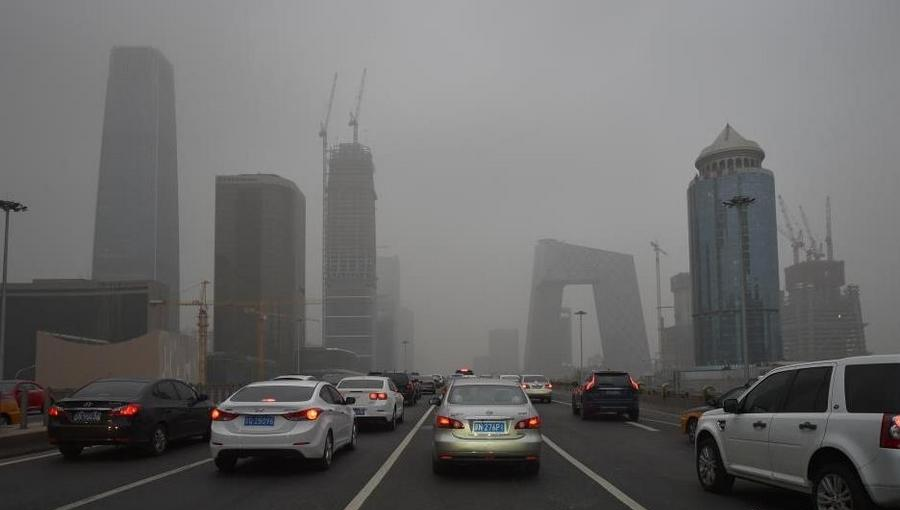car: (694, 352, 900, 510), (45, 376, 215, 457), (210, 379, 357, 471), (428, 376, 543, 474), (677, 367, 793, 449), (331, 375, 404, 429), (570, 368, 641, 422), (263, 374, 324, 421), (1, 379, 48, 415), (380, 370, 418, 405), (515, 374, 553, 405)
